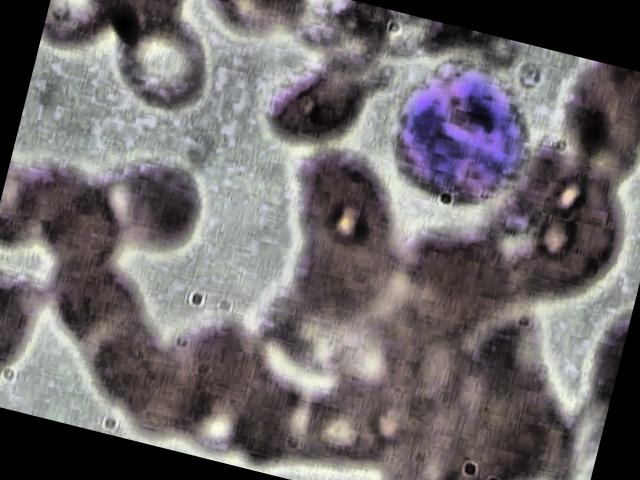WBC: (374, 47, 557, 220)
